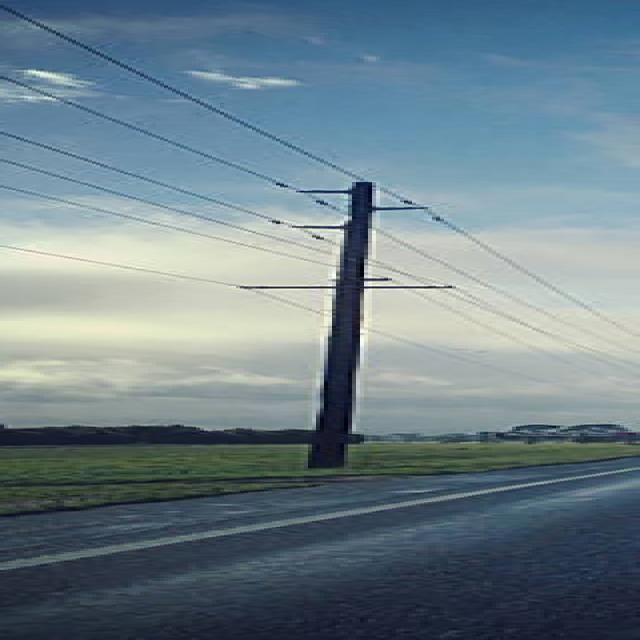pole: (151, 173, 501, 497)
